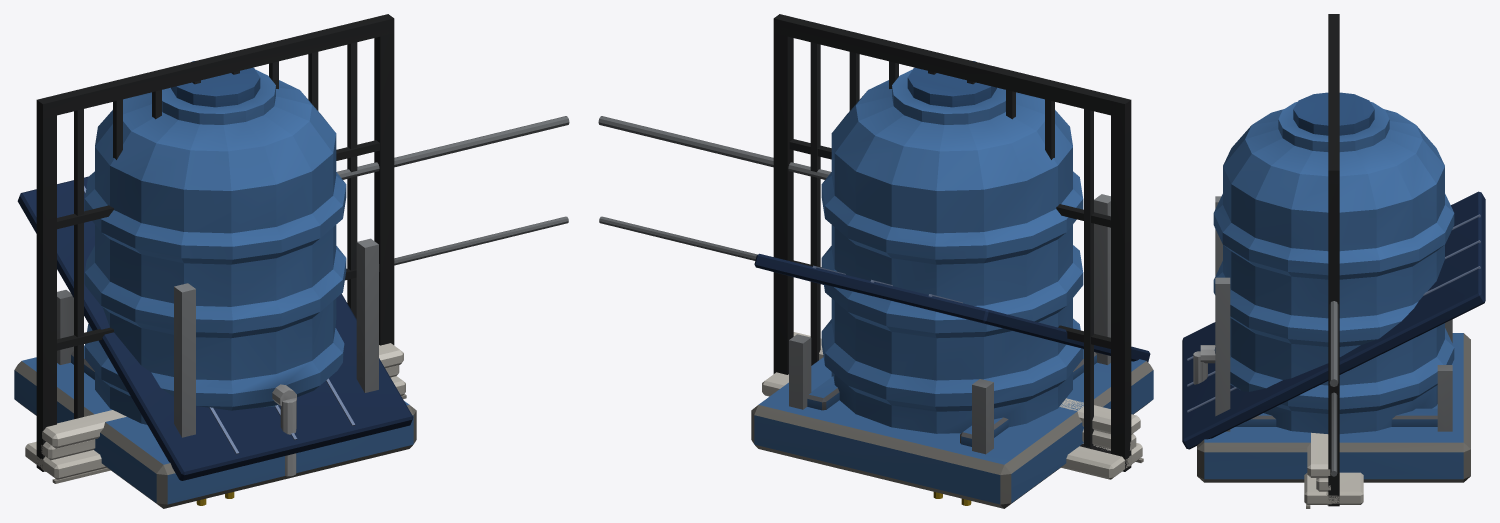
The model's file is kit.glb.
The picture shows the model from 3 angles, left to right: view 1: azimuth 30°, elevation 25°; view 2: azimuth 150°, elevation 25°; view 3: azimuth 270°, elevation 25°; orthographic projection. The views are drawn at different scales.
Parts seen in each view (by area): view 1: tankB, grille, solar, rail, corn, cope; view 2: tankB, grille, solar, rail, cope, corn; view 3: tankB, solar, grille, rail, cope, corn.
Part boxes in pixels (x1,y1,x2,y2): tankB: [14, 61, 416, 508]; grille: [36, 14, 394, 471]; solar: [17, 176, 413, 480]; rail: [337, 116, 569, 265]; corn: [41, 343, 403, 471]; cope: [25, 376, 406, 483]; tankB: [751, 61, 1153, 508]; grille: [773, 14, 1131, 471]; solar: [754, 194, 1150, 454]; rail: [598, 116, 830, 260]; cope: [762, 372, 1143, 479]; corn: [793, 332, 1140, 466]; tankB: [1193, 92, 1470, 482]; solar: [1182, 191, 1485, 449]; grille: [1328, 14, 1339, 506]; rail: [1329, 301, 1338, 476]; cope: [1304, 472, 1363, 508]; corn: [1307, 432, 1331, 505].
Bounding box in the file's own units: 1.5 × 1.2 × 0.8184.
